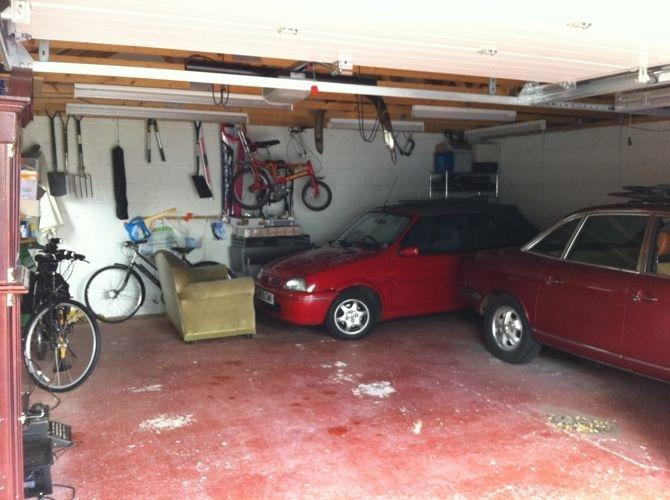non-vehicle: (83, 240, 233, 326), (24, 233, 103, 395), (229, 121, 332, 212)
